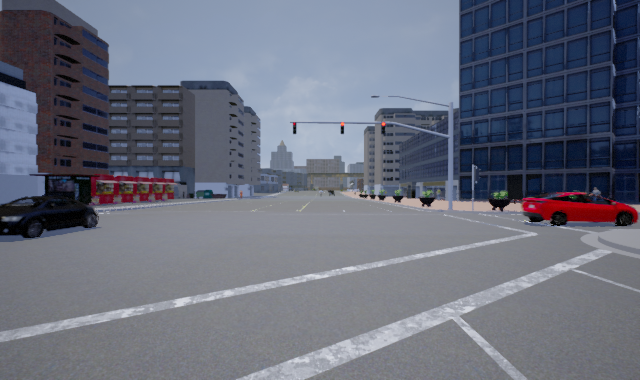vehicle: (1, 194, 99, 238), (521, 192, 639, 226)
